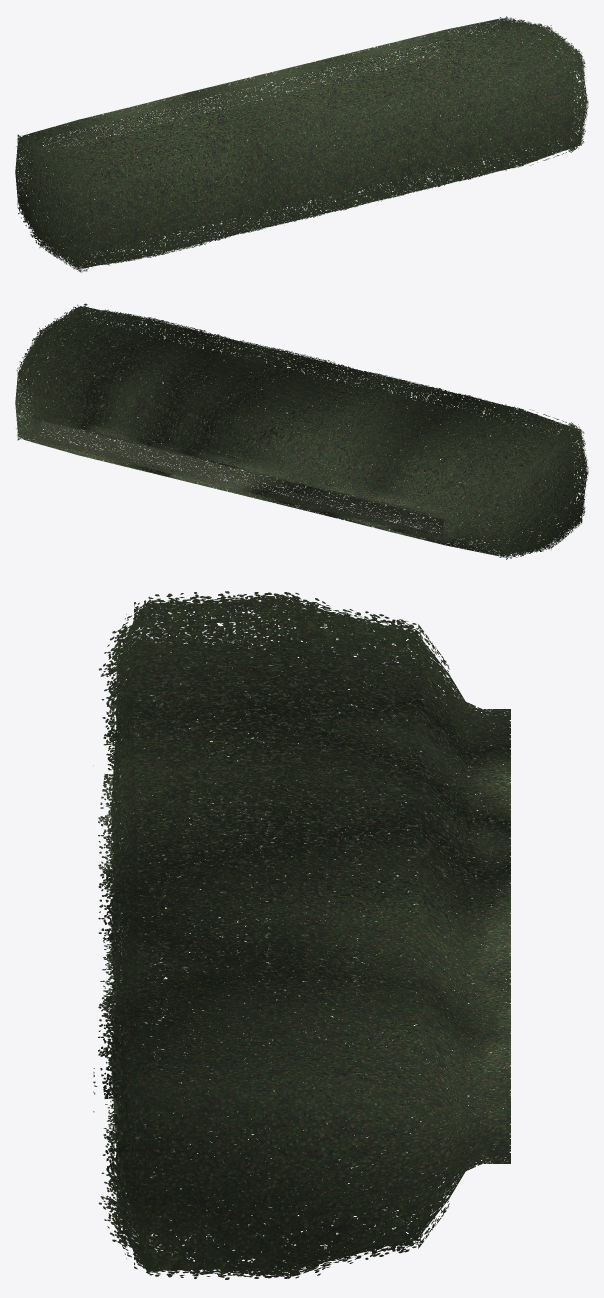
The model's file is nt_2020_foliage_hedge_boxy_2_set_LOD0.obj.
3 renders of one model, top to bottom at view 1: azimuth 30°, elevation 25°; view 2: azimuth 150°, elevation 25°; view 3: azimuth 270°, elevation 25°, orthographic. The views are drawn at different scales.
Visible parts, largest first — view 1: mtl_p6_foliage_hedge2, mtl_p6_foliage_hedge_no_alpha, mtl_p6_foliage_hedge_edge; view 2: mtl_p6_foliage_hedge2, mtl_p6_foliage_hedge_no_alpha, mtl_p6_foliage_hedge_edge; view 3: mtl_p6_foliage_hedge2, mtl_p6_foliage_hedge_no_alpha, mtl_p6_foliage_hedge_edge.
Boxes of the visible parts, <box> form: mtl_p6_foliage_hedge2: <box>15,18,586,267</box>; mtl_p6_foliage_hedge_no_alpha: <box>32,34,574,251</box>; mtl_p6_foliage_hedge_edge: <box>16,16,588,272</box>; mtl_p6_foliage_hedge2: <box>15,307,586,556</box>; mtl_p6_foliage_hedge_no_alpha: <box>32,323,574,540</box>; mtl_p6_foliage_hedge_edge: <box>16,303,588,559</box>; mtl_p6_foliage_hedge2: <box>111,601,510,1271</box>; mtl_p6_foliage_hedge_no_alpha: <box>122,643,509,1229</box>; mtl_p6_foliage_hedge_edge: <box>93,591,449,1279</box>.
Bounding box in the file's own units: 689 × 131 × 240.
